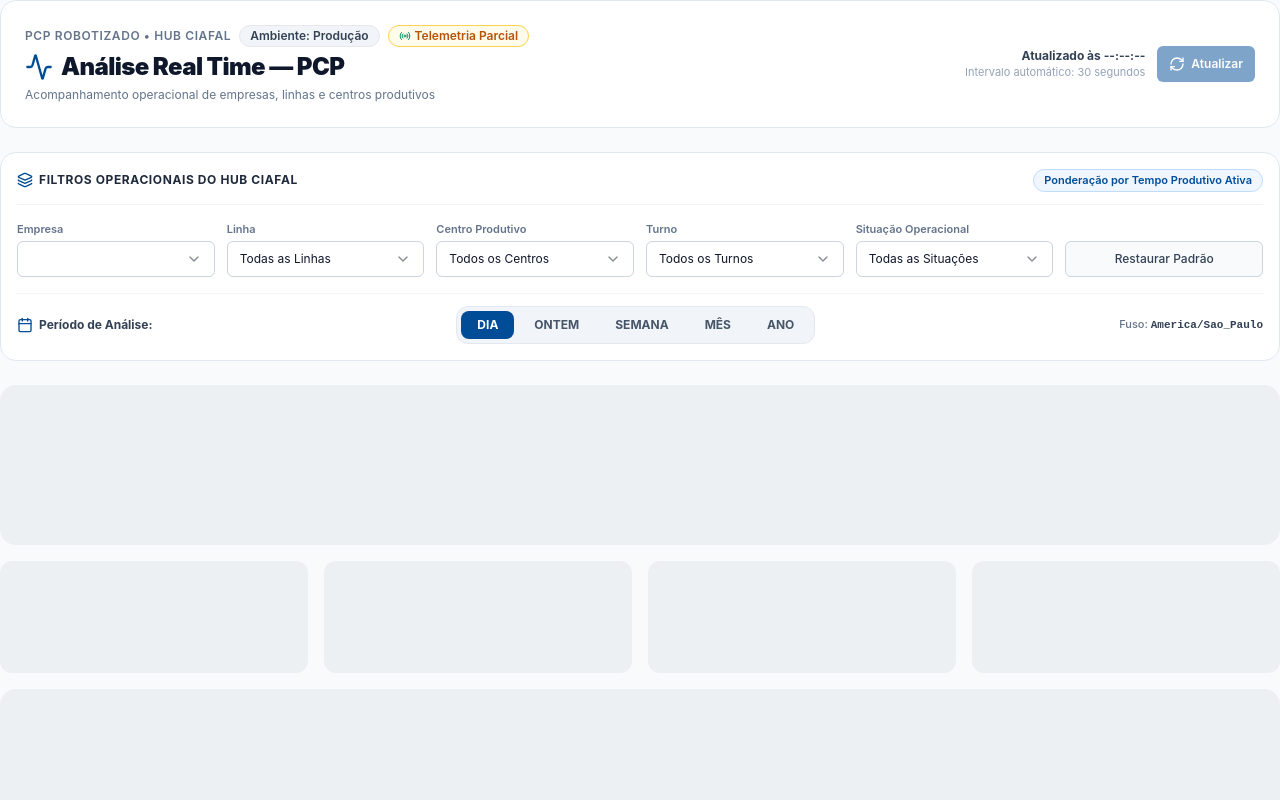
Test case: Análise Real Time — Testes Obrigatórios T1 a T6 dos Botões e Drilldown › T5: Alteração de período recarrega os dados e botões continuam operantes
// Mudar para SEMANA
What coordinates should you click on to do the following:
click the button with test id "period-filter-SEMANA"
I would click on:
 (642, 325)
Its box is [599,311,685,339].
(page scrolled)
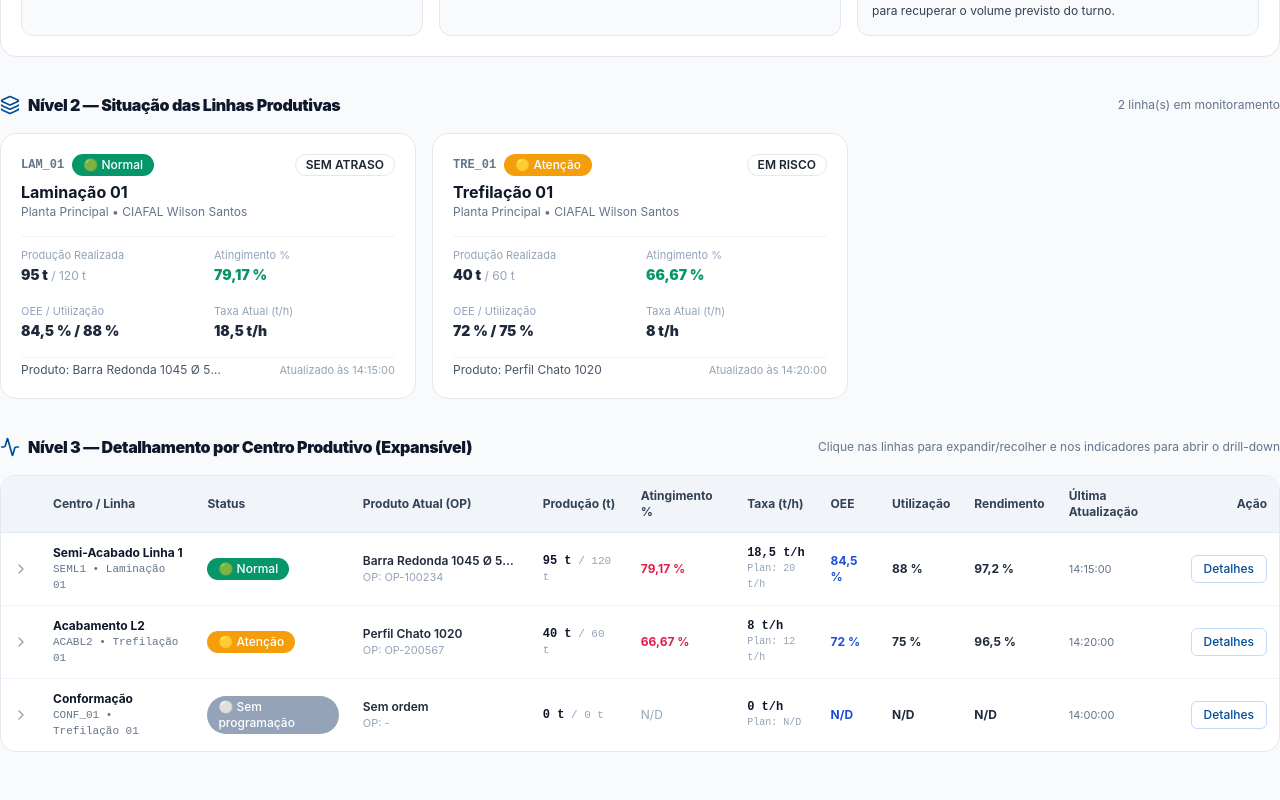
// Botão detalhes segue operante
What coordinates should you click on to do the following:
click the button "Detalhes" in the row of "SEML1"
I would click on:
 (1229, 569)
Its box is [1191,555,1267,583].
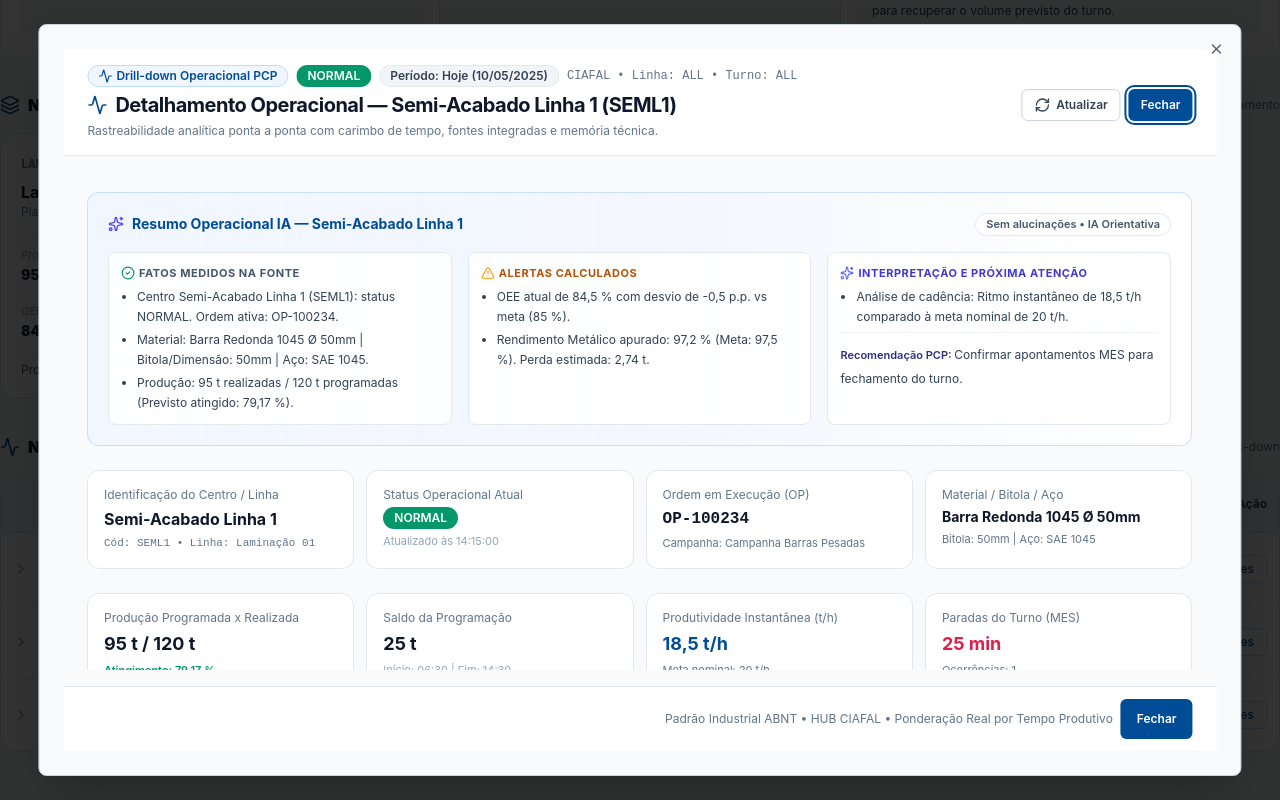
Check: the dialog with test id "realtime-drilldown-modal-content" is shown
